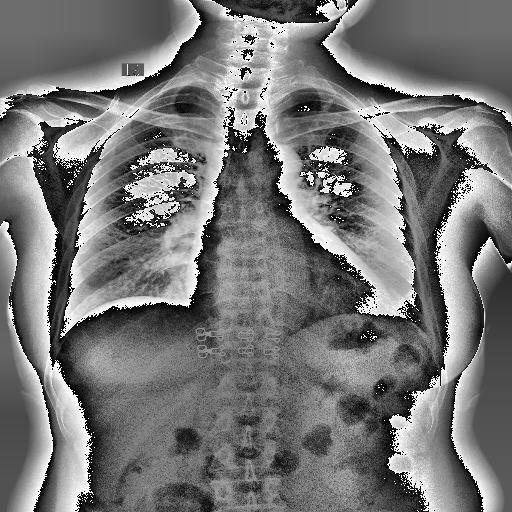0- Aortic enlargement: (244, 140, 304, 194), (246, 141, 302, 181)
3- Cardiomegaly: (186, 252, 392, 310), (180, 274, 398, 326), (185, 274, 390, 328)
